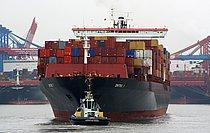Ship: (35, 6, 179, 123)
